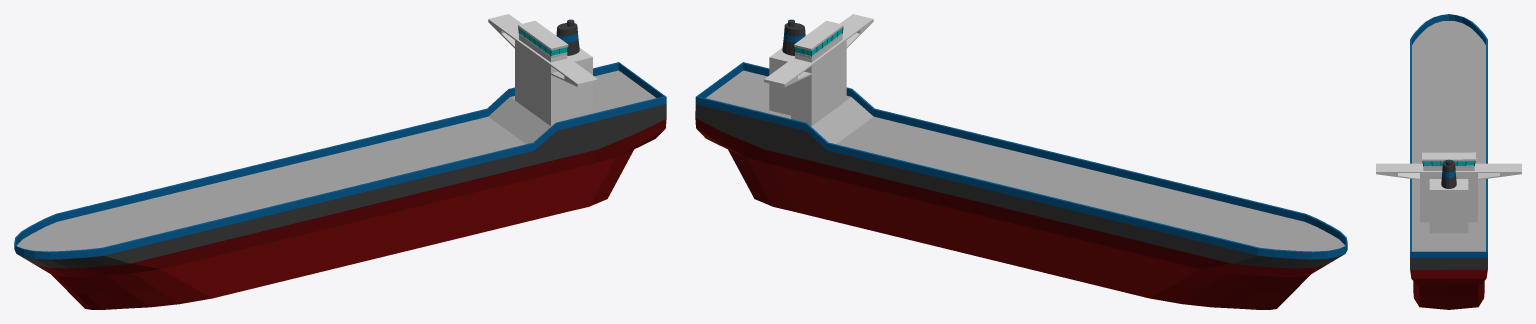
Rendered from seaship.fbx.
The picture shows the model from 3 angles, left to right: view 1: azimuth 30°, elevation 25°; view 2: azimuth 150°, elevation 25°; view 3: azimuth 270°, elevation 25°; orthographic projection. The views are drawn at different scales.
Visible parts, largest first — view 1: Plane; view 2: Plane; view 3: Plane.
Boxes of the visible parts, x1,y1,x2,y2 form: Plane: [14, 14, 666, 309]; Plane: [695, 14, 1347, 309]; Plane: [1376, 14, 1521, 309].
Bounding box in the file's own units: 4565 × 1179 × 1125.
